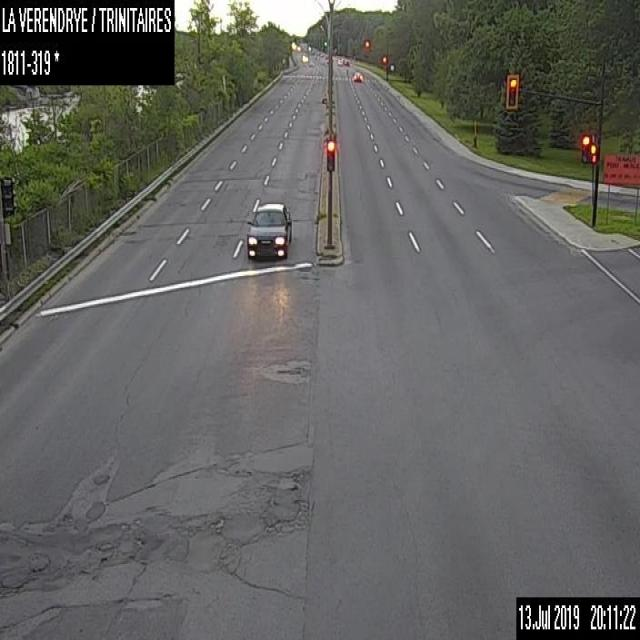vehicle: (244, 198, 292, 258), (352, 70, 363, 82), (342, 57, 348, 64), (337, 56, 342, 64)
